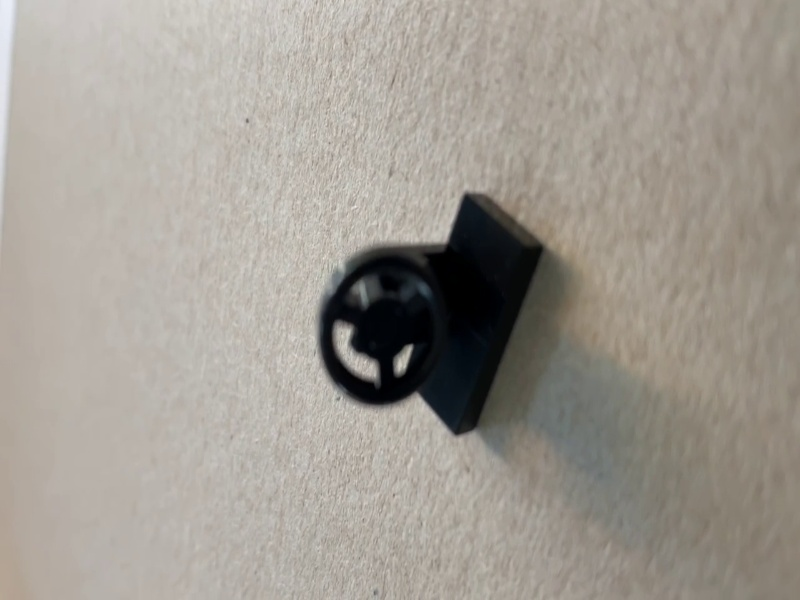steering wheel: (319, 193, 545, 435)
